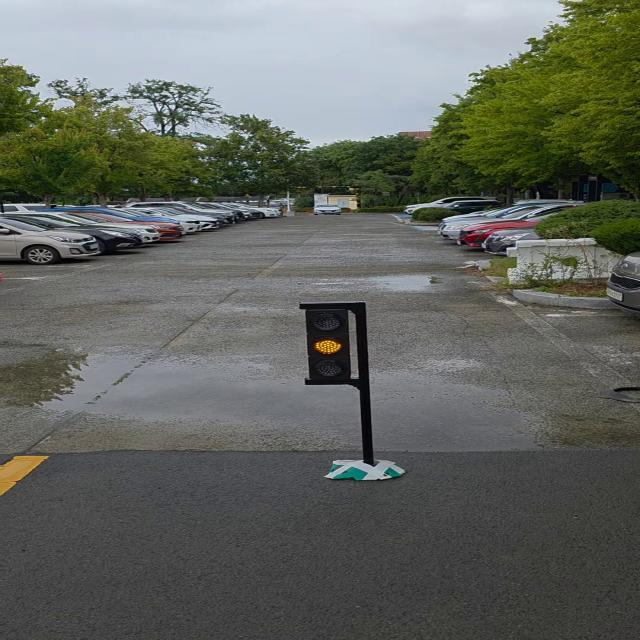yellow: (305, 304, 369, 384)
